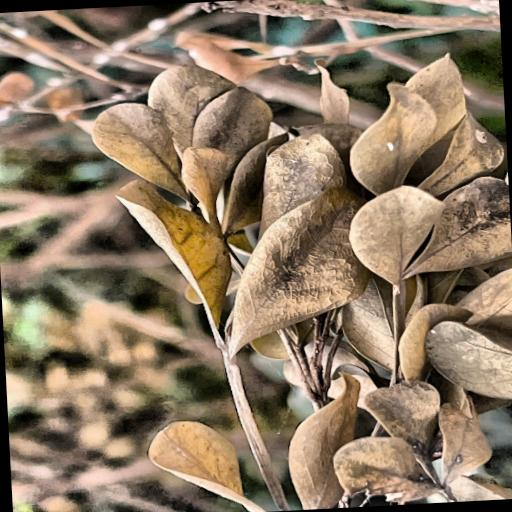la heo: (223, 78, 512, 499)
